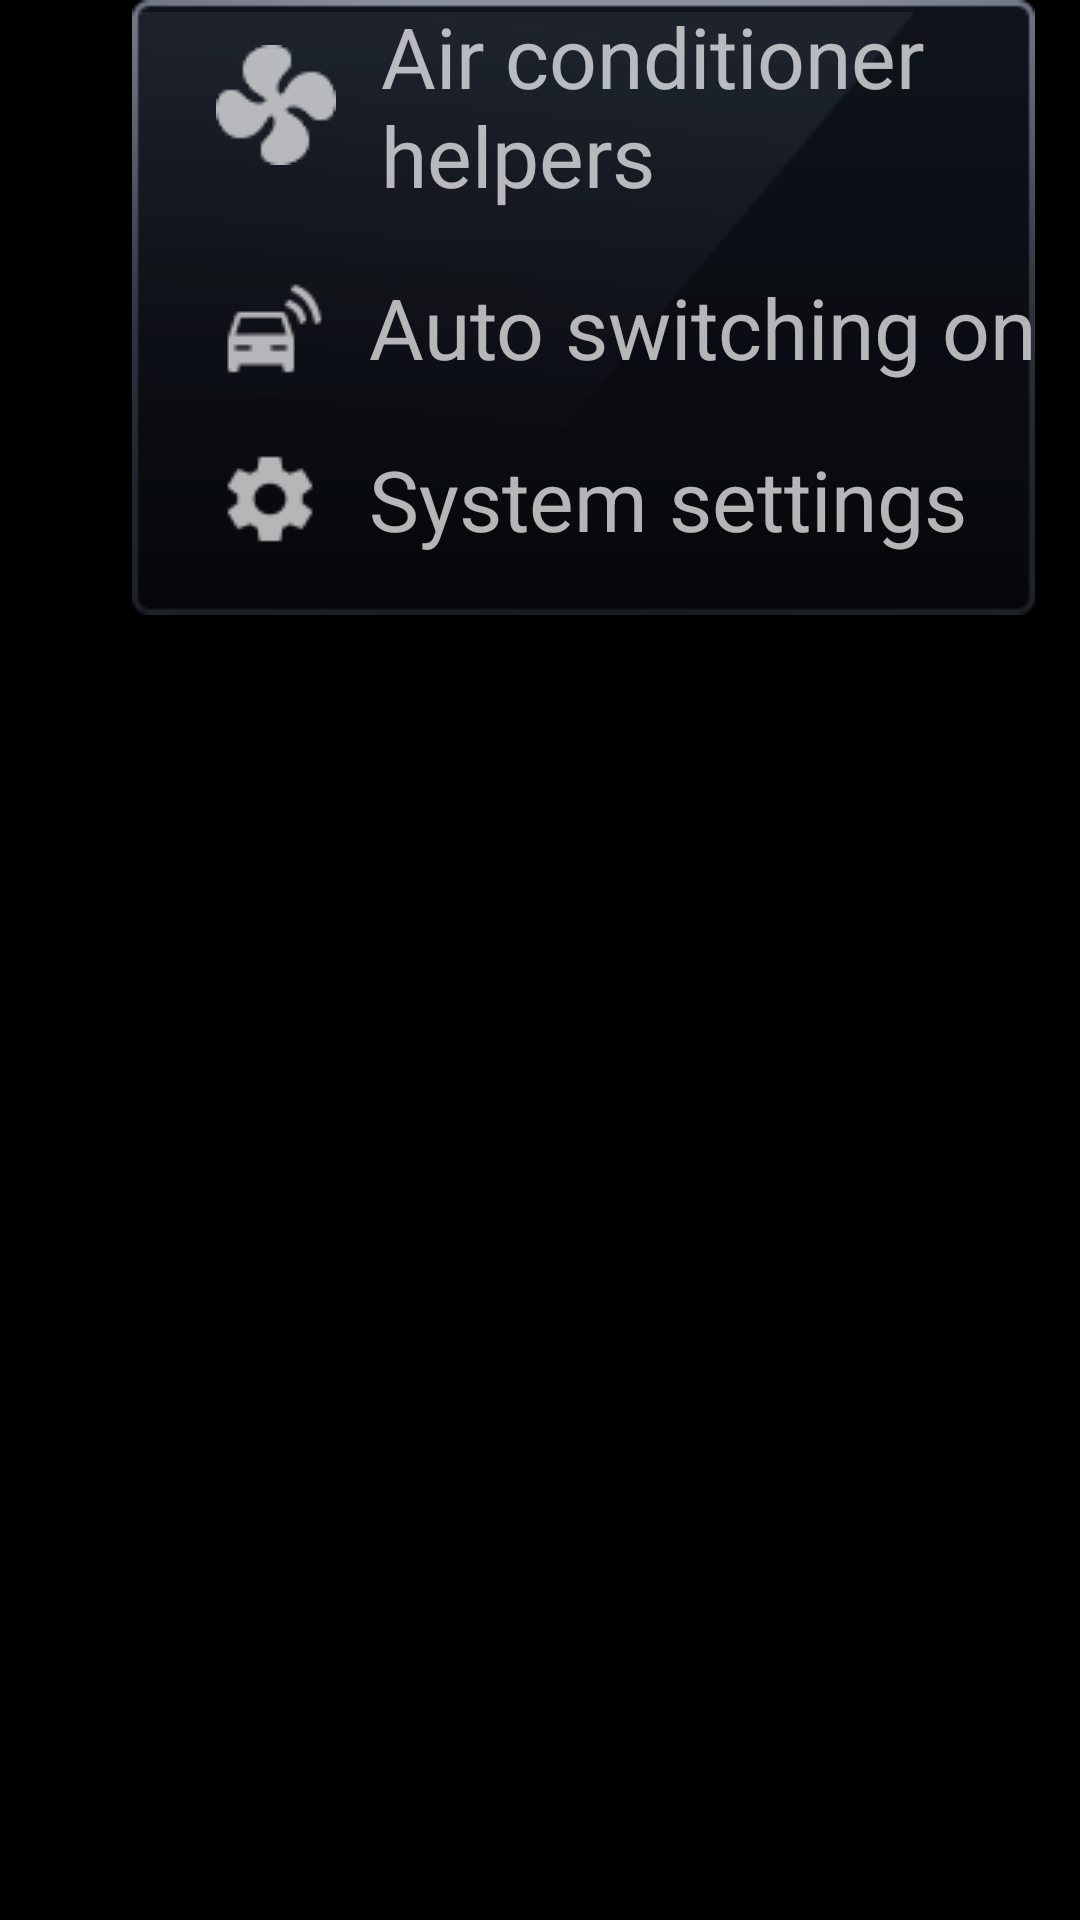

Named icons in this screenshot (1080px x 1920px) and their bounding boxes, (x1, y1, x2, y2):
air up nor: (216, 45, 336, 165)
